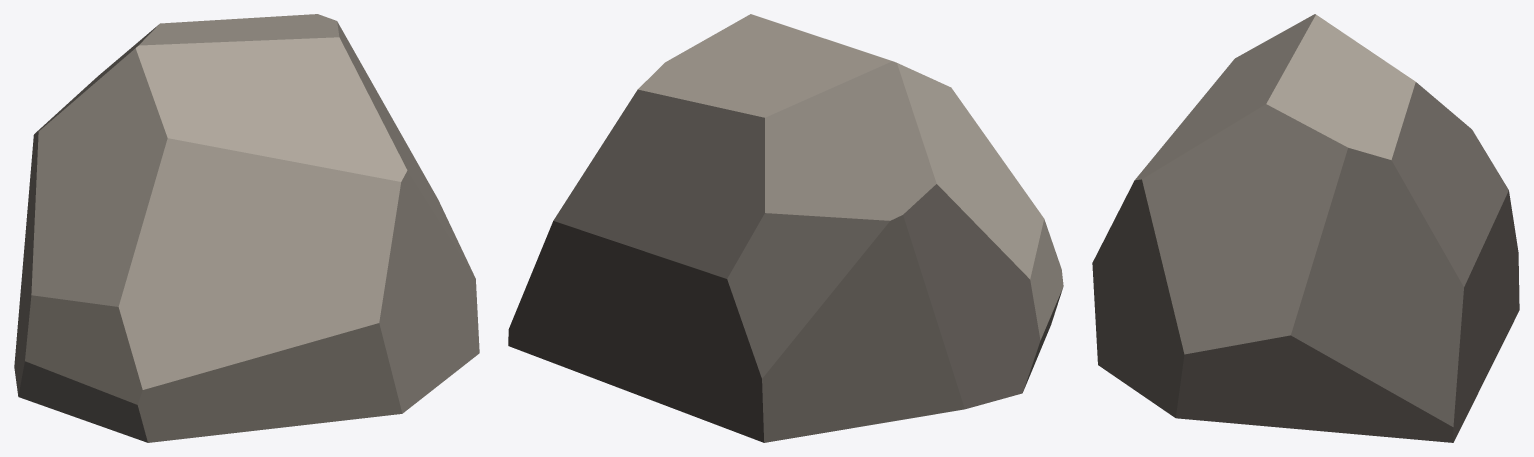
Rendered from FMS_Rock_S.fbx.
3 views of the same model, side by side, from view 1: azimuth 30°, elevation 25°; view 2: azimuth 150°, elevation 25°; view 3: azimuth 270°, elevation 25° (orthographic). The views are drawn at different scales.
Visible parts, largest first — view 1: FMS_Rock_S; view 2: FMS_Rock_S; view 3: FMS_Rock_S.
Part boxes in pixels (x1,y1,x2,y2): FMS_Rock_S: (14,14,479,442); FMS_Rock_S: (508,14,1063,442); FMS_Rock_S: (1092,14,1519,442).
Bounding box in the file's own units: 0.3 × 0.2 × 0.27.
